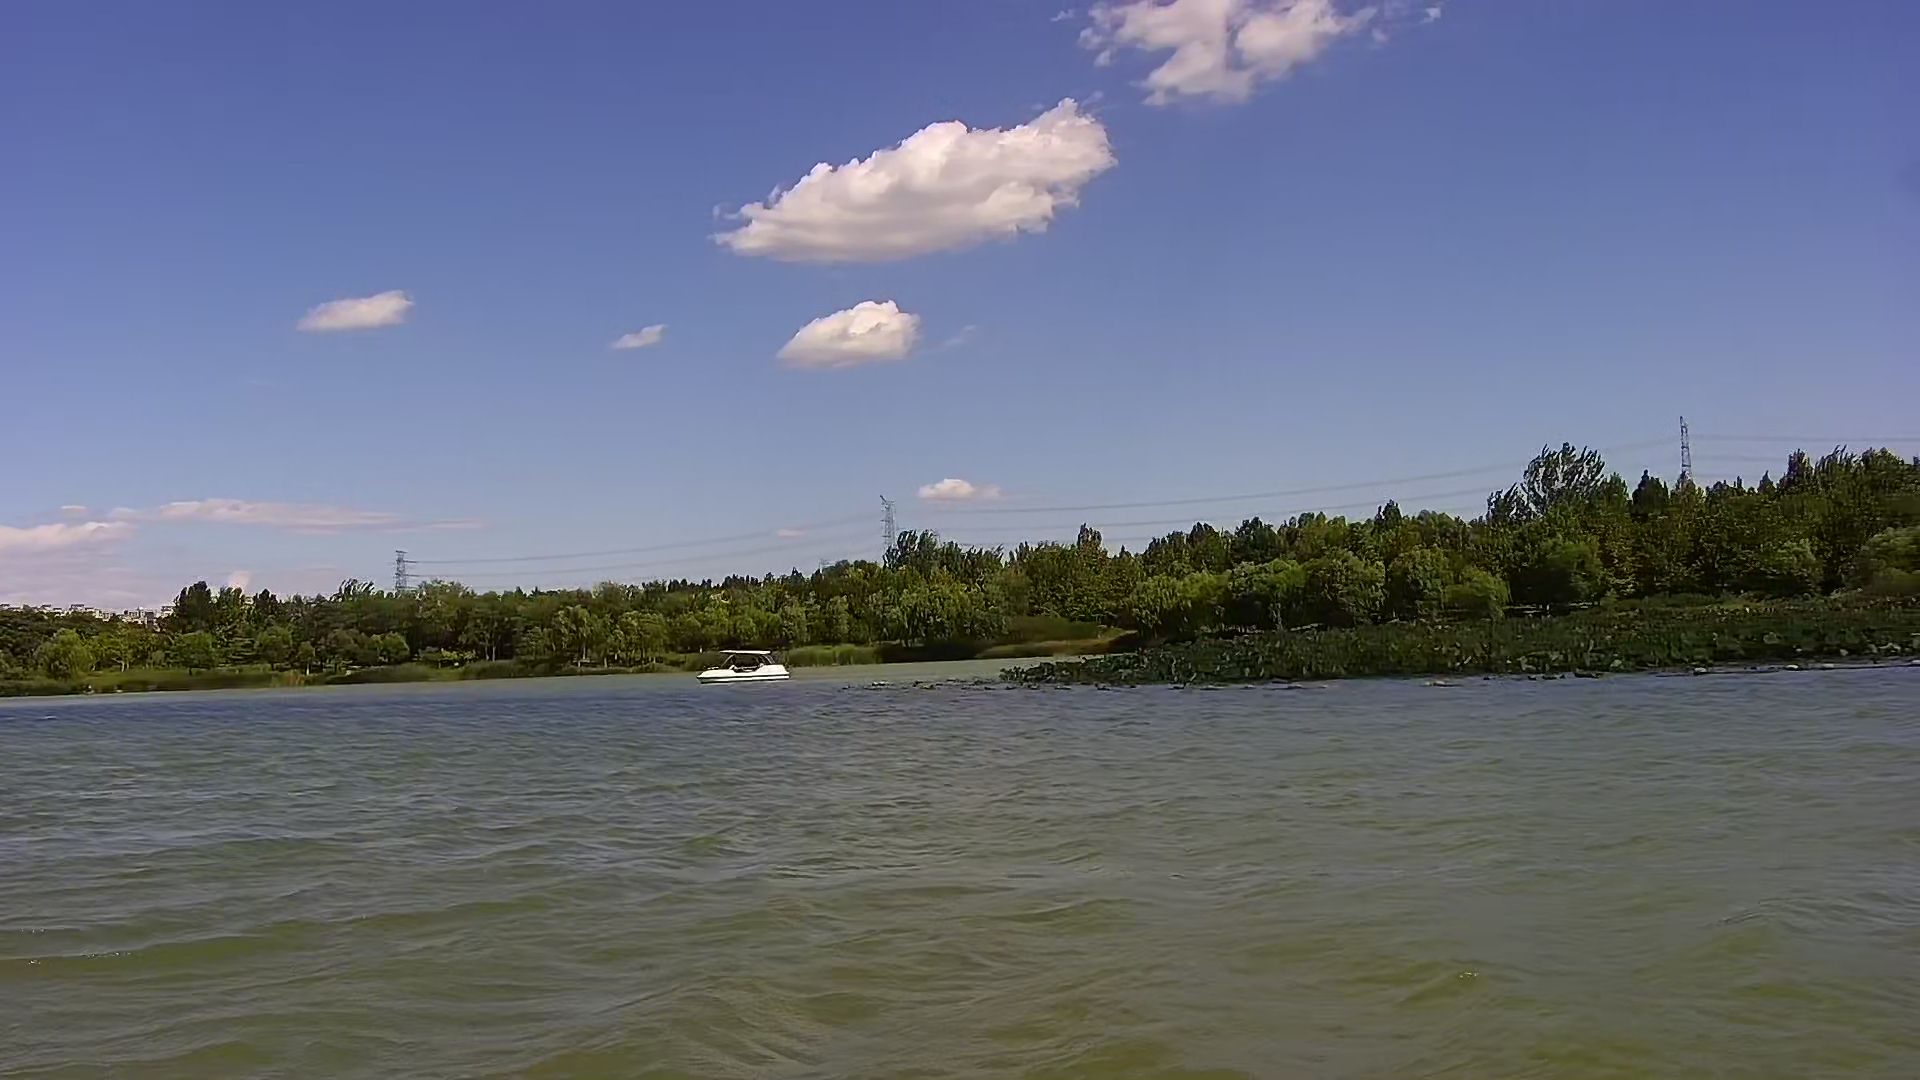boat: (695, 644, 793, 684)
